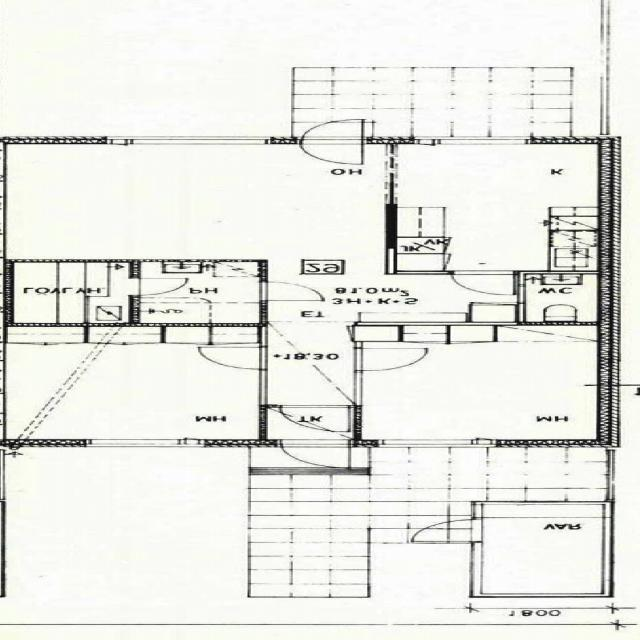door: (280, 440, 350, 470), (281, 405, 349, 431), (300, 116, 362, 144), (300, 137, 362, 165), (354, 348, 424, 371), (408, 520, 482, 541), (196, 347, 266, 369), (452, 271, 514, 295), (260, 282, 321, 300), (130, 278, 186, 295)
